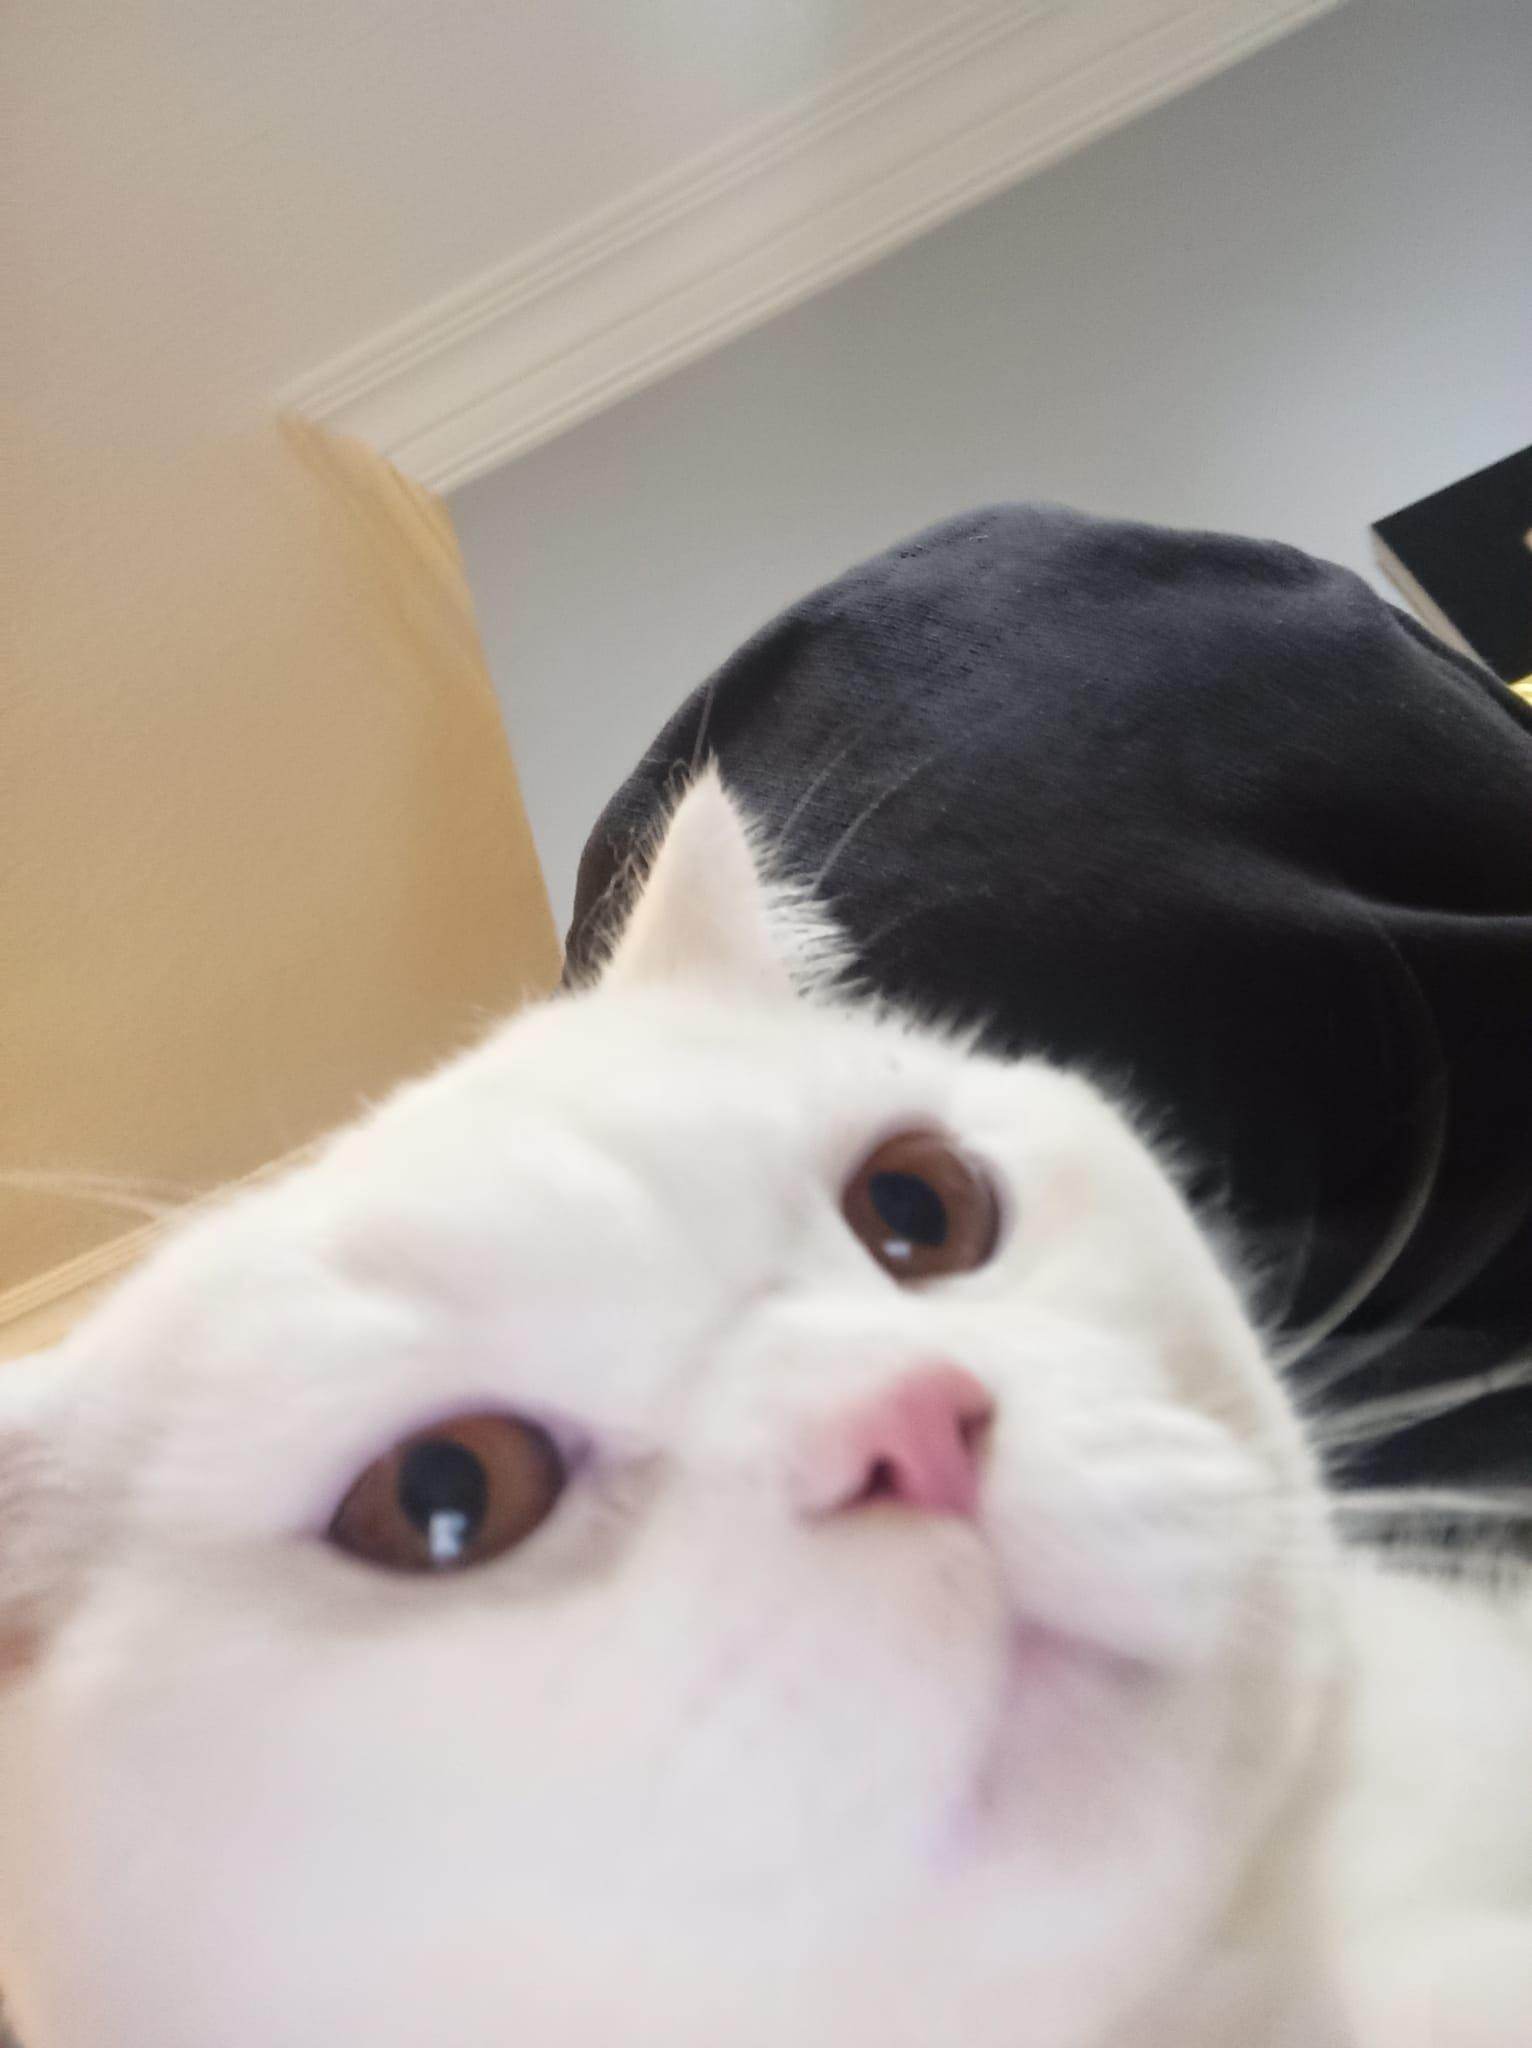kedo: (0, 761, 1532, 2048)
